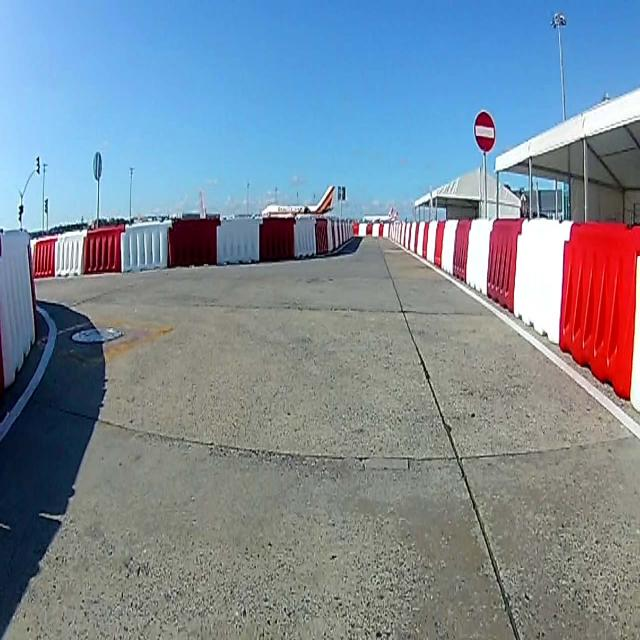girisyok: (473, 110, 496, 152)
